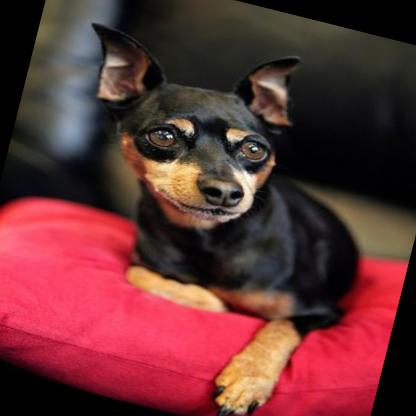miniature_pinscher: (4, 5, 403, 416)
